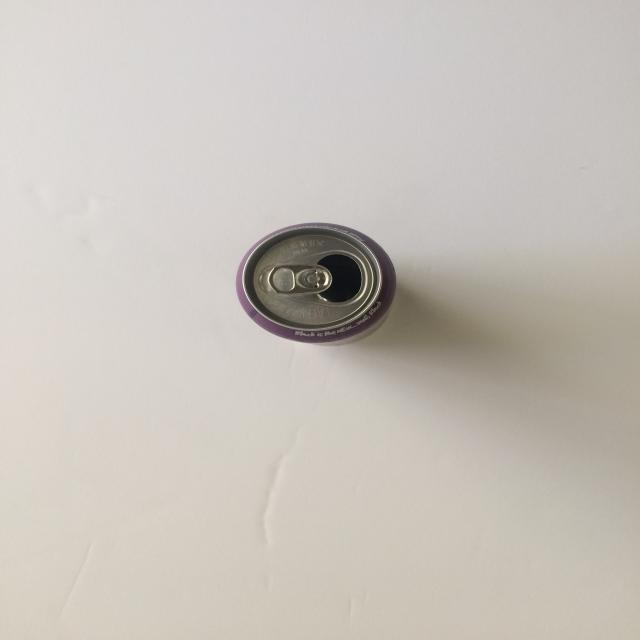metal: (234, 222, 400, 346)
